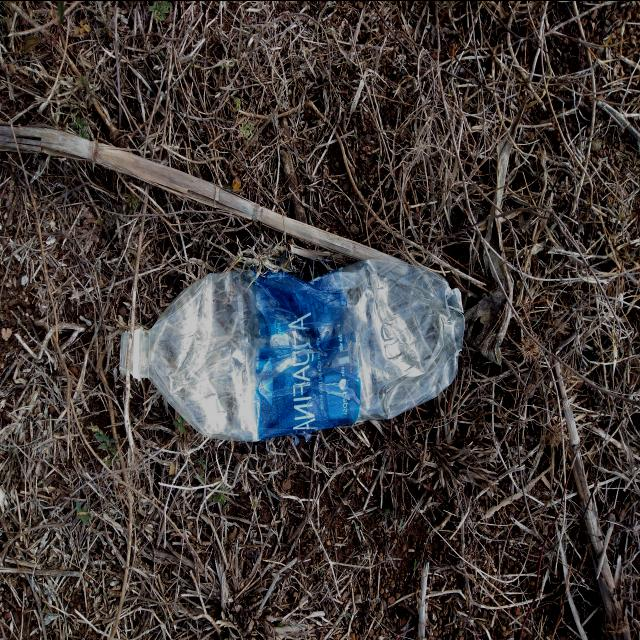Clear plastic bottle: (119, 257, 465, 441)
